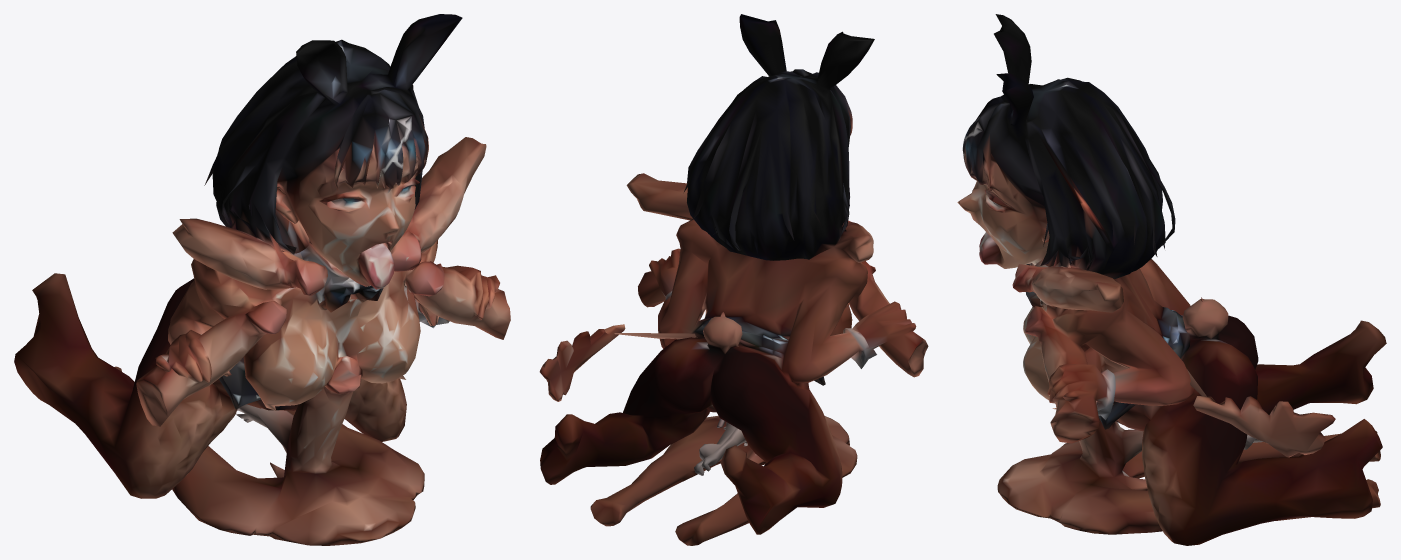
The model's file is 01a1a7ed-32a0-7951-a082-c068d774fded.glb.
The picture shows the model from 3 angles, left to right: view 1: azimuth 30°, elevation 25°; view 2: azimuth 150°, elevation 25°; view 3: azimuth 270°, elevation 25°; orthographic projection. The views are drawn at different scales.
Visible parts, largest first — view 1: model; view 2: model; view 3: model.
Part boxes in pixels (x1,y1,x2,y2): model: (14, 14, 510, 545); model: (539, 14, 928, 545); model: (957, 14, 1386, 545).
Size of the model in its own units: 1.18 by 1.6 by 1.4.
